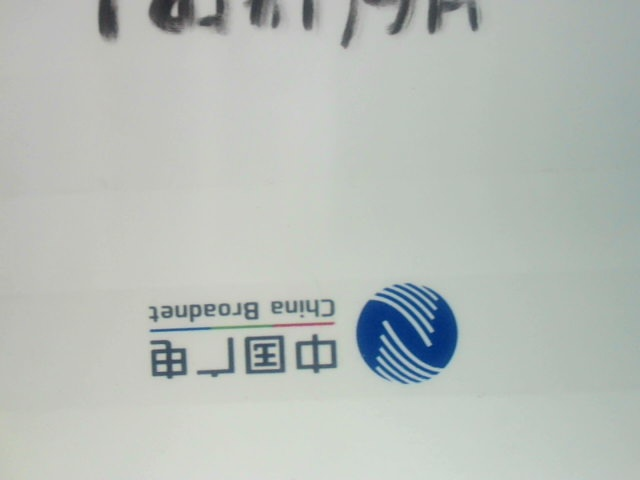AW_ChinaBroadNet: (129, 267, 475, 399)
